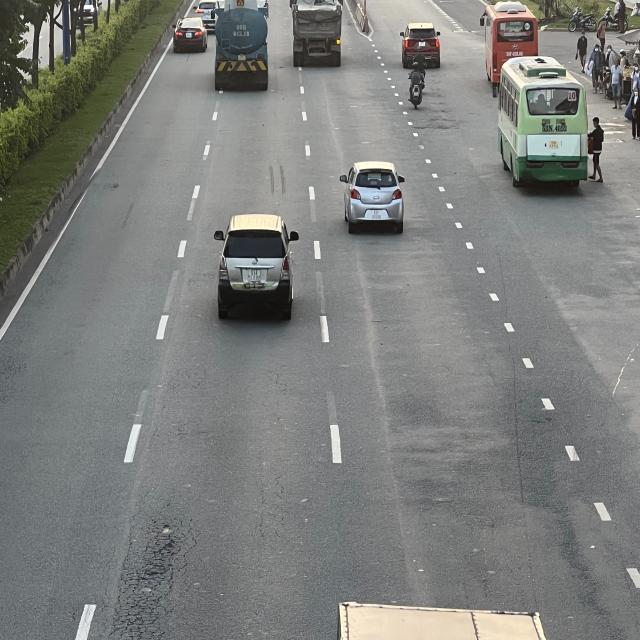car: (215, 217, 298, 313), (340, 163, 404, 230), (400, 28, 440, 68), (171, 17, 207, 53)
coach: (498, 62, 588, 188), (481, 10, 540, 92)
container: (289, 2, 343, 64)
truck: (214, 6, 268, 84)
